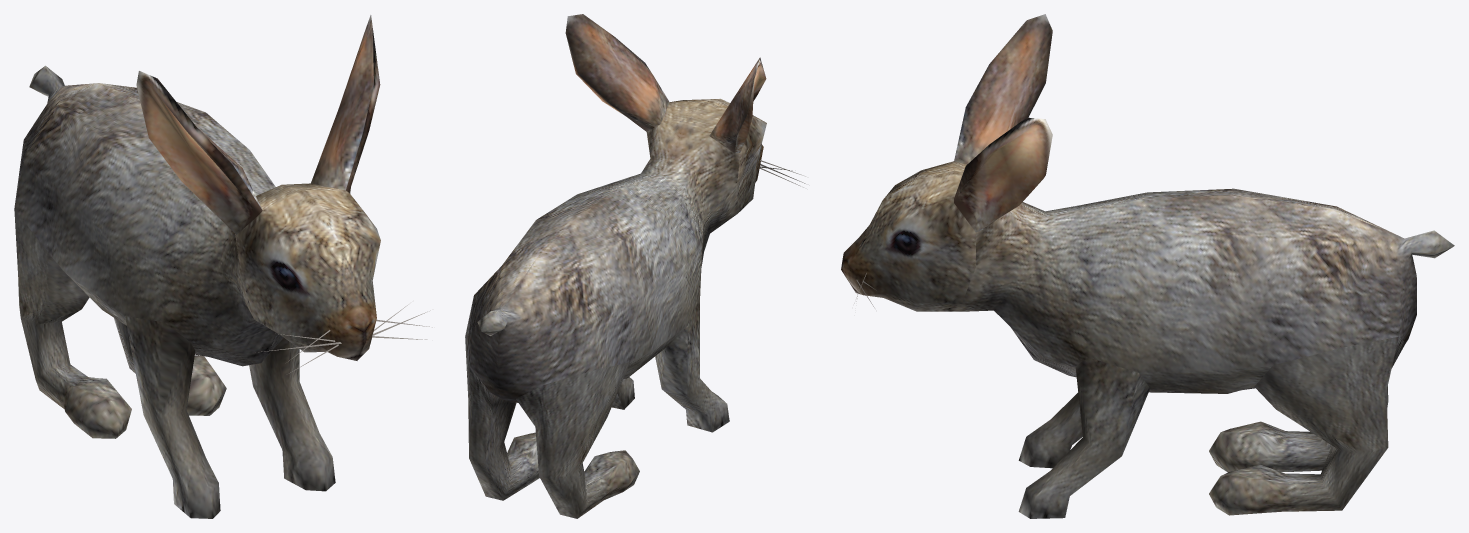
File: rabbit.FBX
The picture shows the model from 3 angles, left to right: view 1: azimuth 30°, elevation 25°; view 2: azimuth 150°, elevation 25°; view 3: azimuth 270°, elevation 25°; orthographic projection. The views are drawn at different scales.
Parts seen in each view (by area): view 1: Box01; view 2: Box01; view 3: Box01.
Boxes of the visible parts, x1,y1,x2,y2 form: Box01: (14, 15, 432, 518); Box01: (465, 14, 805, 518); Box01: (841, 14, 1454, 518).
Bounding box in the file's own units: 24.48 × 45.66 × 60.45.
Materials: 1 (1 with a texture image).
